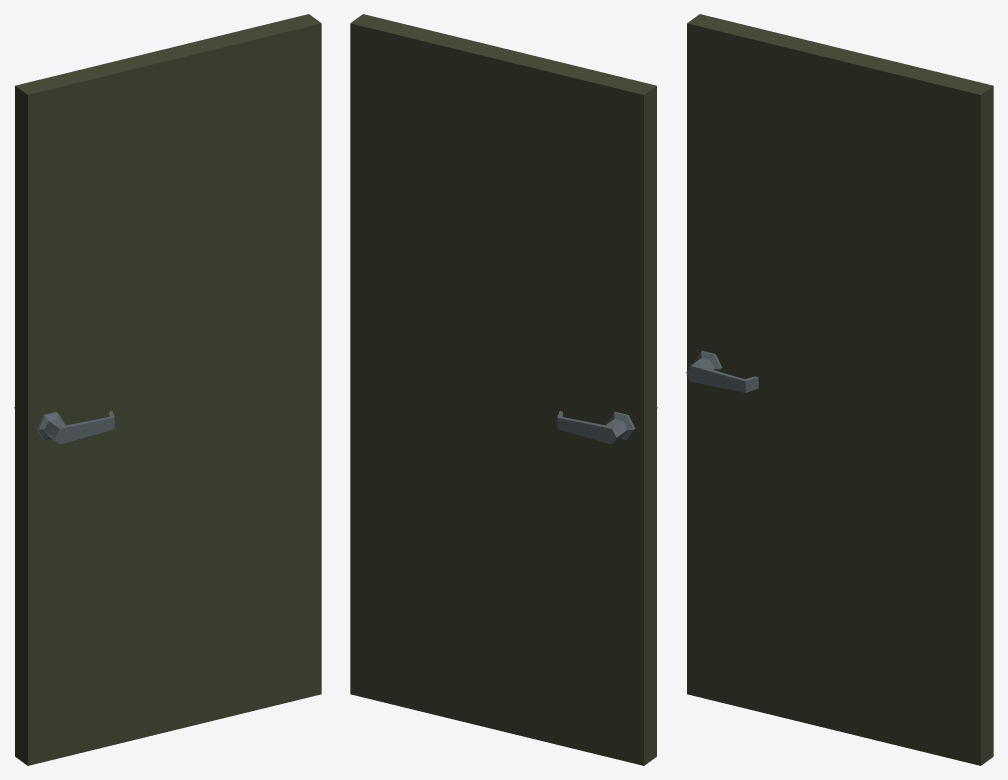
The model's file is SM_Bld_Metal_Door_01.obj.
3 renders of one model, left to right at view 1: azimuth 30°, elevation 25°; view 2: azimuth 150°, elevation 25°; view 3: azimuth 330°, elevation 25°, orthographic.
Parts seen in each view (by area): view 1: SM_Bld_Metal_Door_01_0; view 2: SM_Bld_Metal_Door_01_0; view 3: SM_Bld_Metal_Door_01_0.
Boxes of the visible parts, x1,y1,x2,y2 form: SM_Bld_Metal_Door_01_0: [14, 14, 321, 765]; SM_Bld_Metal_Door_01_0: [350, 14, 657, 765]; SM_Bld_Metal_Door_01_0: [686, 14, 993, 765].
Size of the model in its own units: 1.01 by 2.21 by 0.2459.
1 material, 1 textured.
